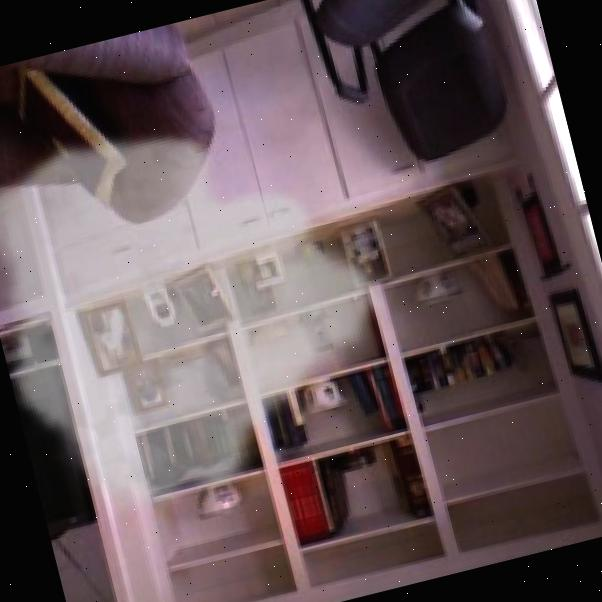smoke: (0, 71, 430, 546)
